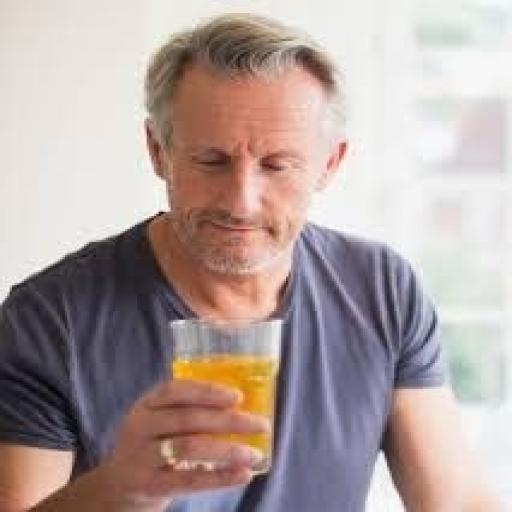drinking: (161, 0, 391, 477)
